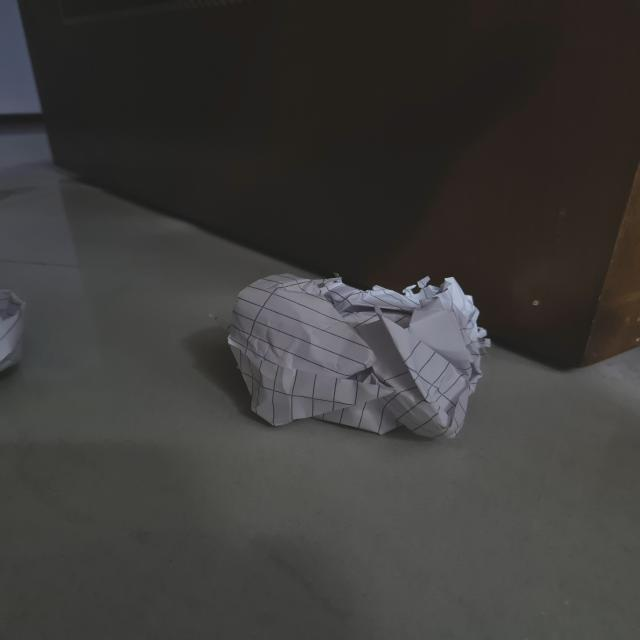Paper: (203, 254, 502, 462)
